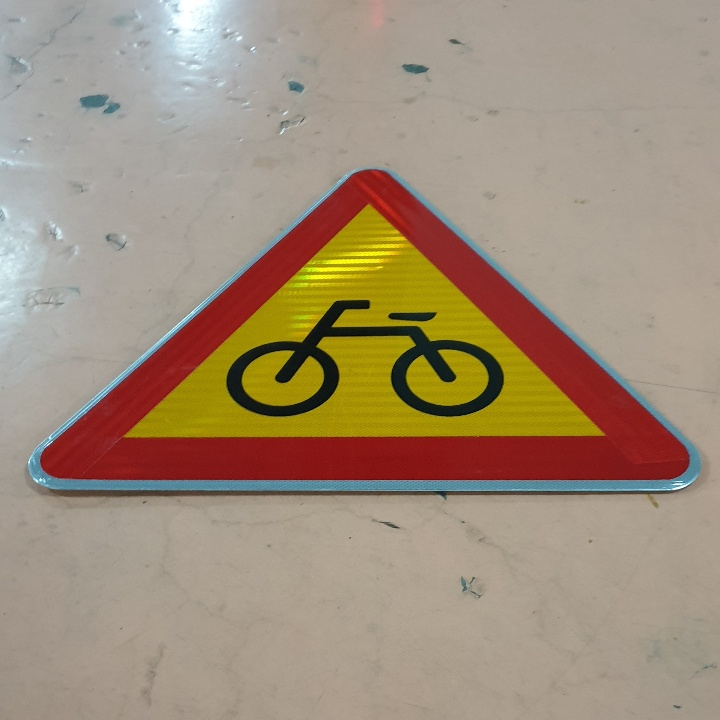bicycle: (34, 168, 699, 496)
